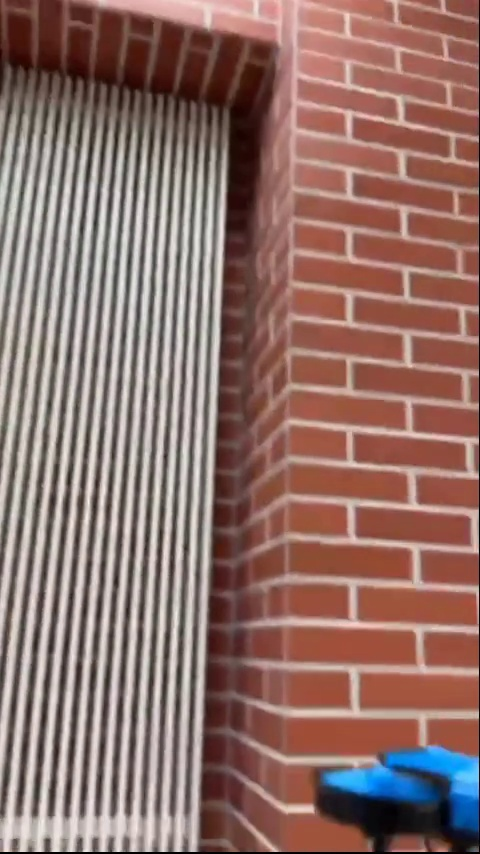drone: (313, 751, 480, 852)
